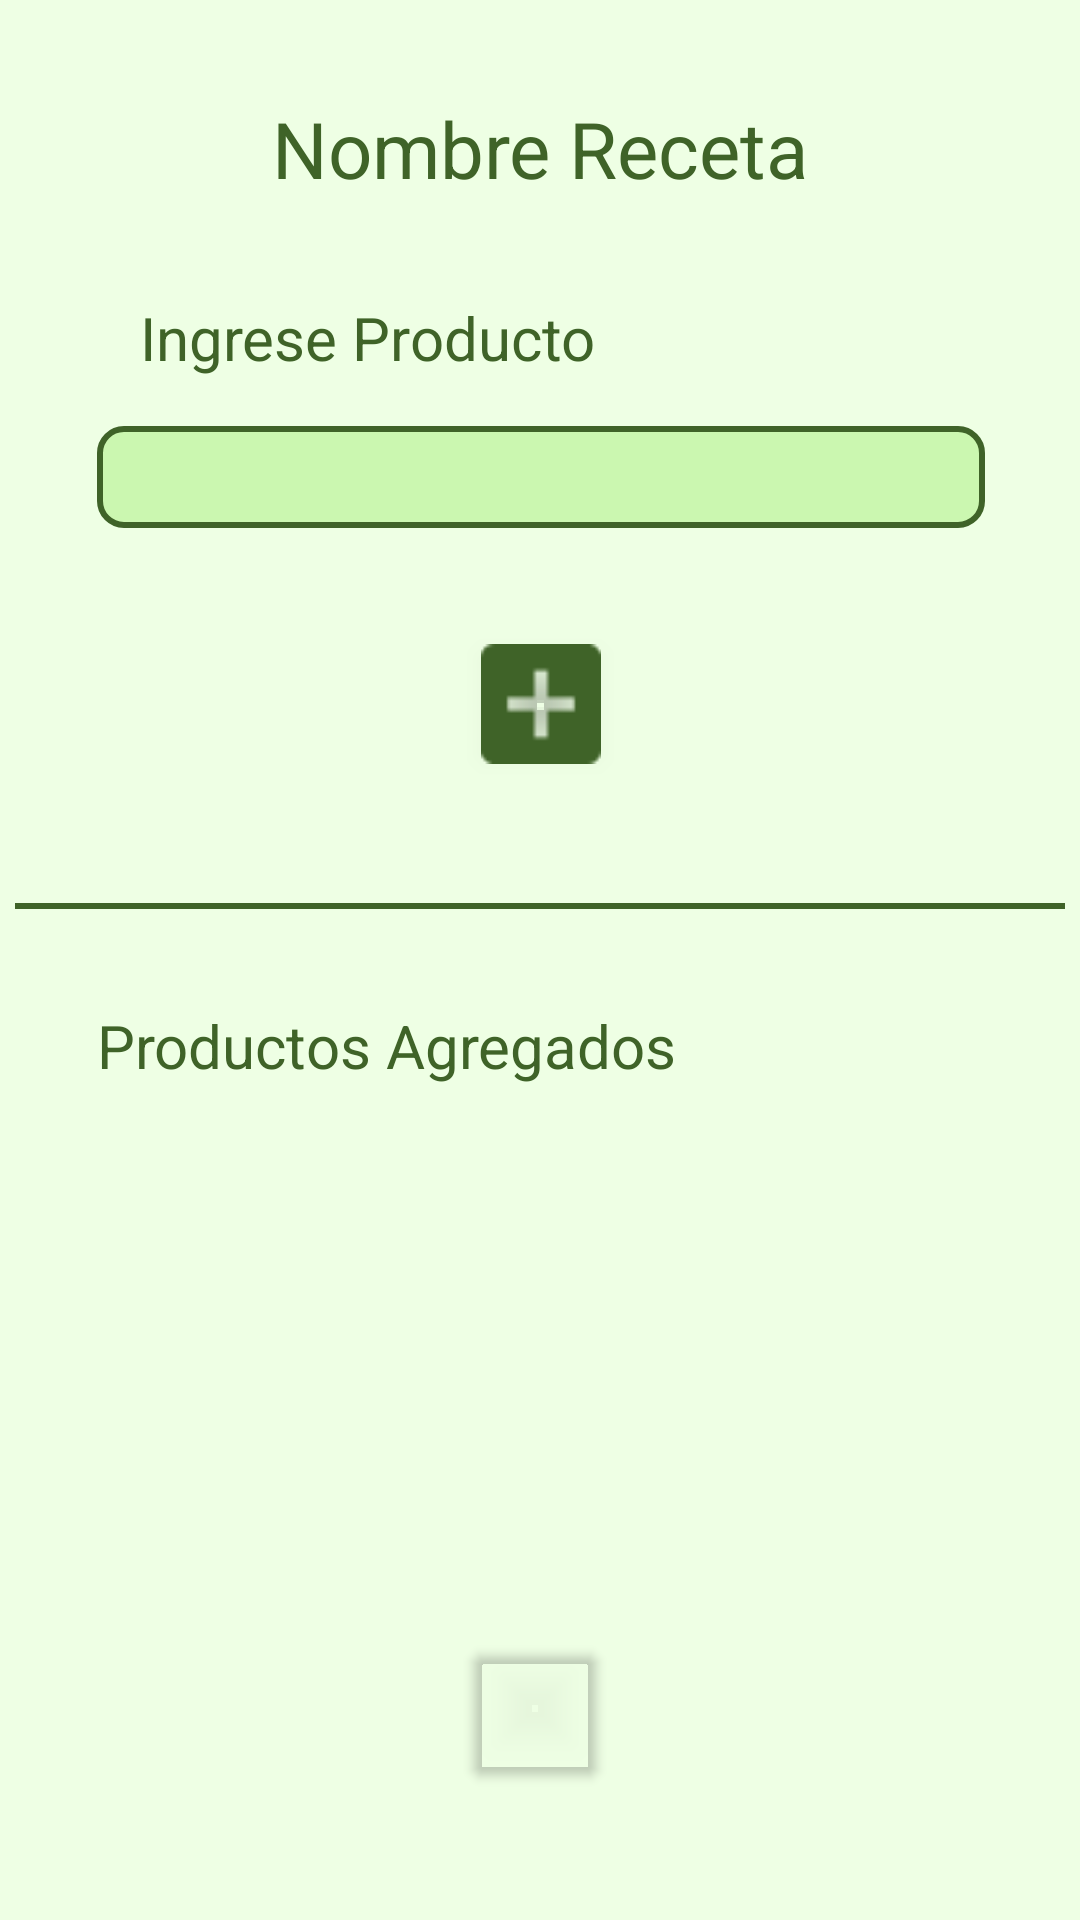

Icons on this 1080 × 1920 Android screen, each with its box as bbox=(x1, y1, x2, y2):
add: bbox=(481, 644, 601, 764)
